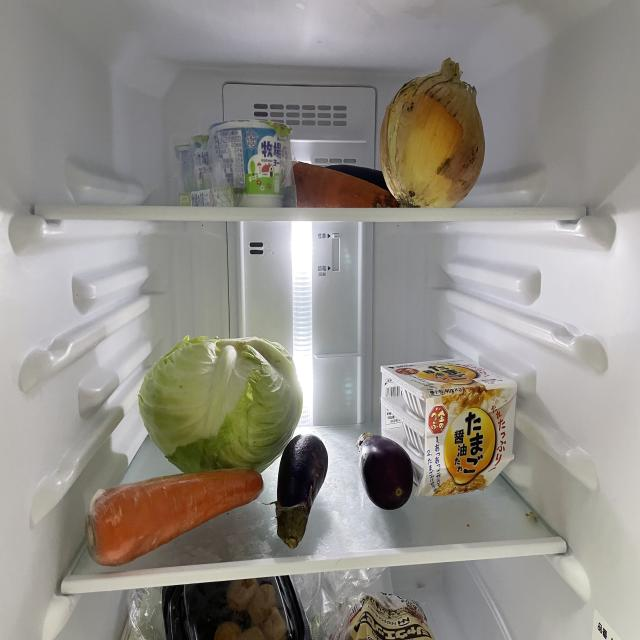cabbage: (141, 336, 303, 472)
carrot: (84, 472, 263, 569), (295, 161, 404, 208)
eggplant: (276, 436, 327, 551), (358, 432, 419, 509), (330, 161, 396, 190)
onion: (380, 63, 488, 208)
